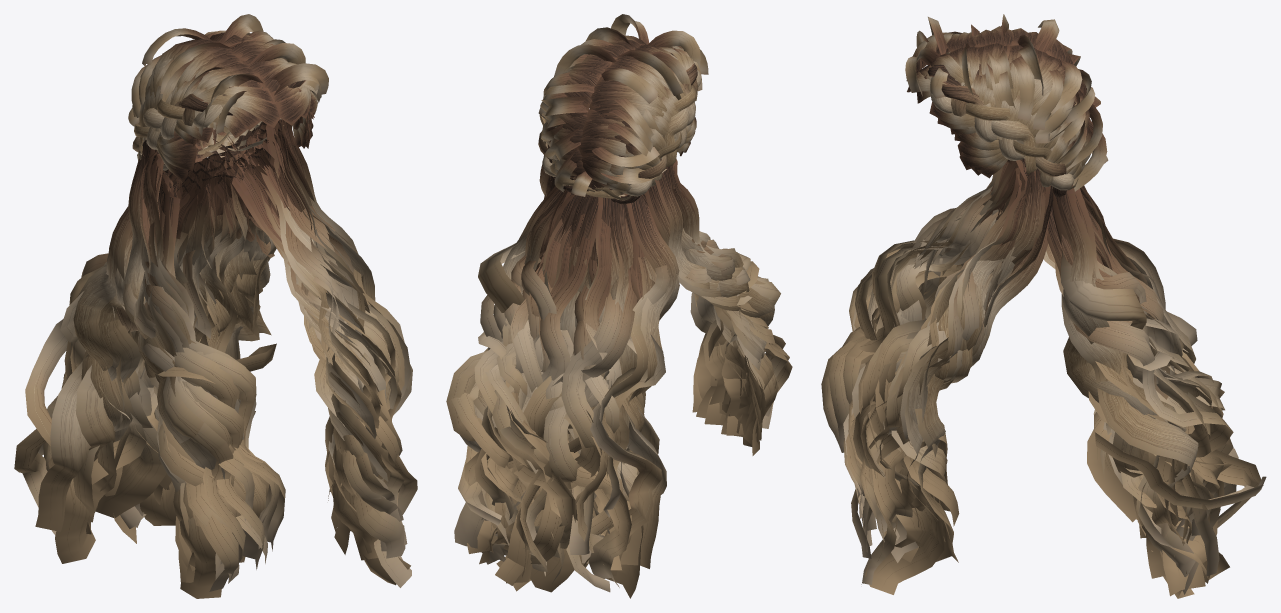
Rendered from Hair15.fbx.
3 renders of one model, left to right at view 1: azimuth 30°, elevation 25°; view 2: azimuth 150°, elevation 25°; view 3: azimuth 270°, elevation 25°, orthographic. The views are drawn at different scales.
Visible parts, largest first — view 1: haircard vol7 hair03; view 2: haircard vol7 hair03; view 3: haircard vol7 hair03.
Boxes of the visible parts, left/top/right/bottom form: haircard vol7 hair03: left=14, top=14, right=417, bottom=598; haircard vol7 hair03: left=446, top=14, right=792, bottom=598; haircard vol7 hair03: left=821, top=14, right=1266, bottom=598.
Bounding box in the file's own units: 31.88 × 67.57 × 48.71.
1 material, 1 textured.
